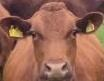muzzles: (40, 60, 73, 79)
